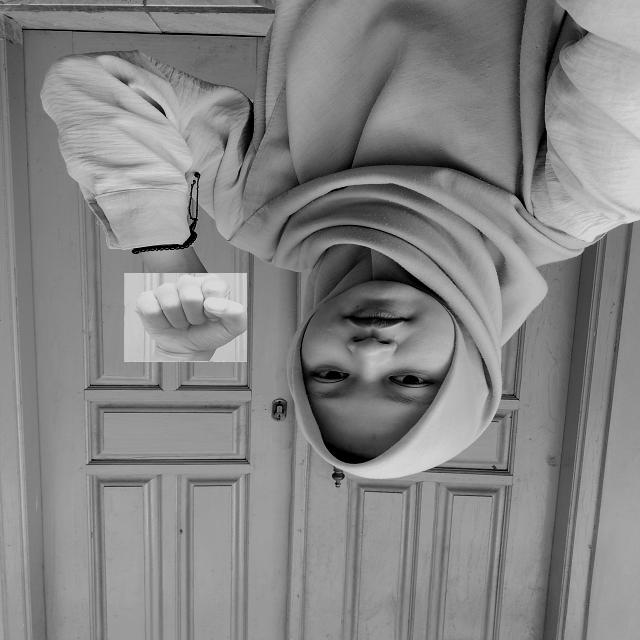baik: (124, 273, 247, 362)
